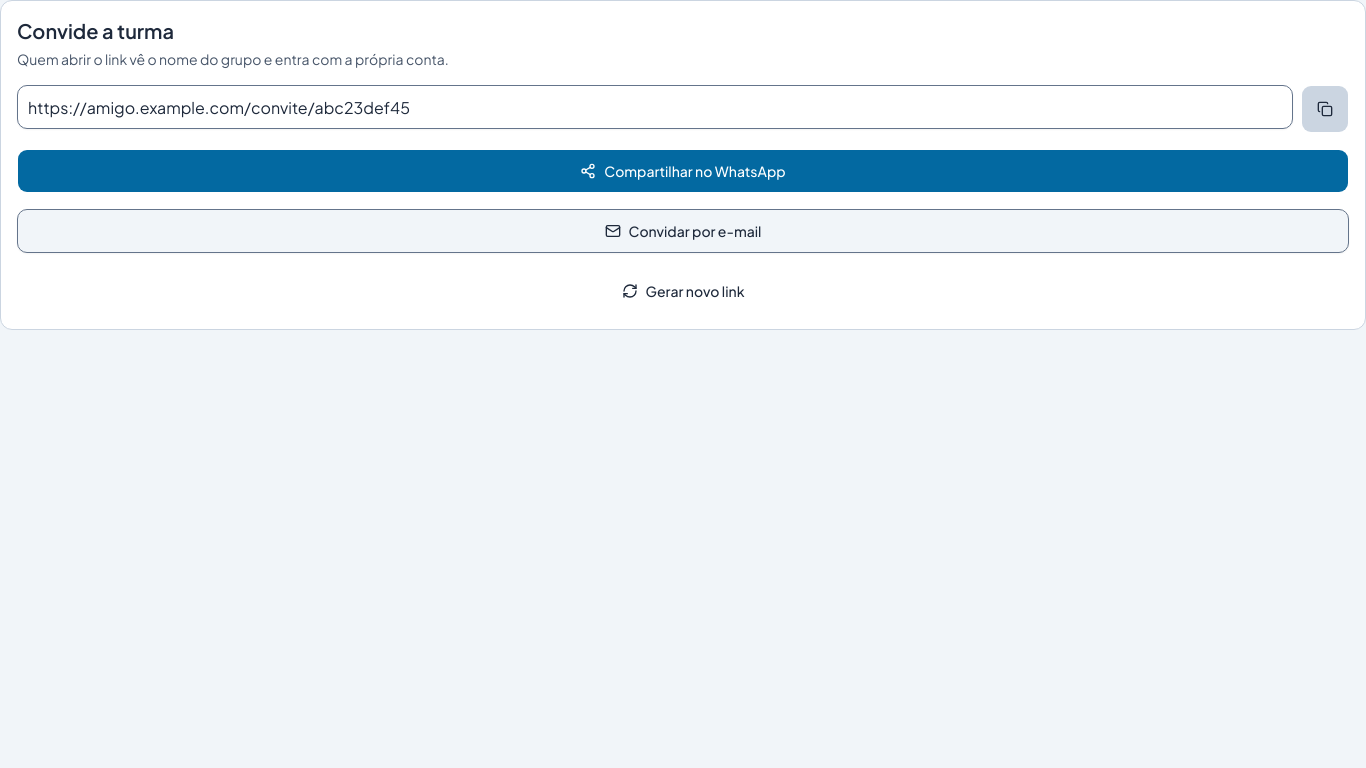
Scenario: InviteBlock › Manter link fecha sem trocar
Click the button "Gerar novo link".
click(683, 291)  # box [17,269,1349,313]
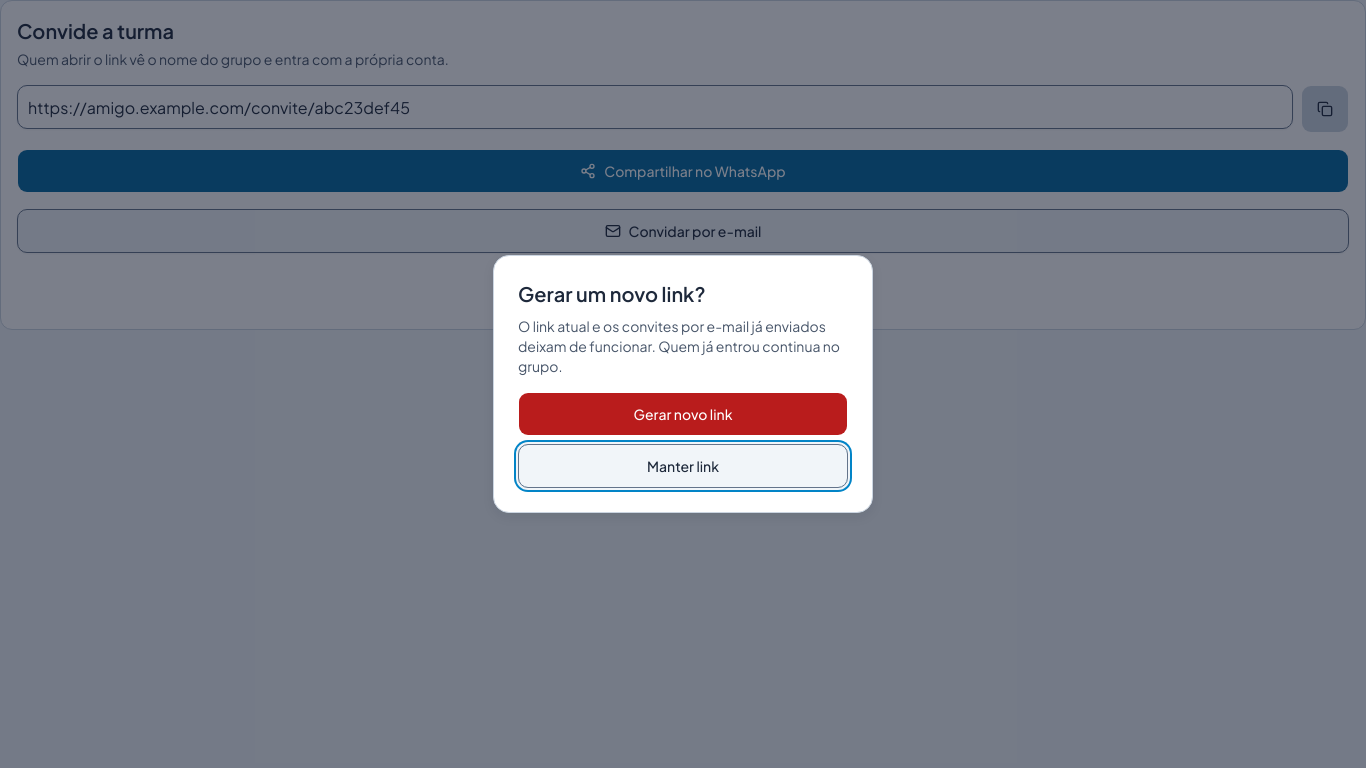
Click the button "Manter link".
click(683, 466)  # box [518,444,848,488]
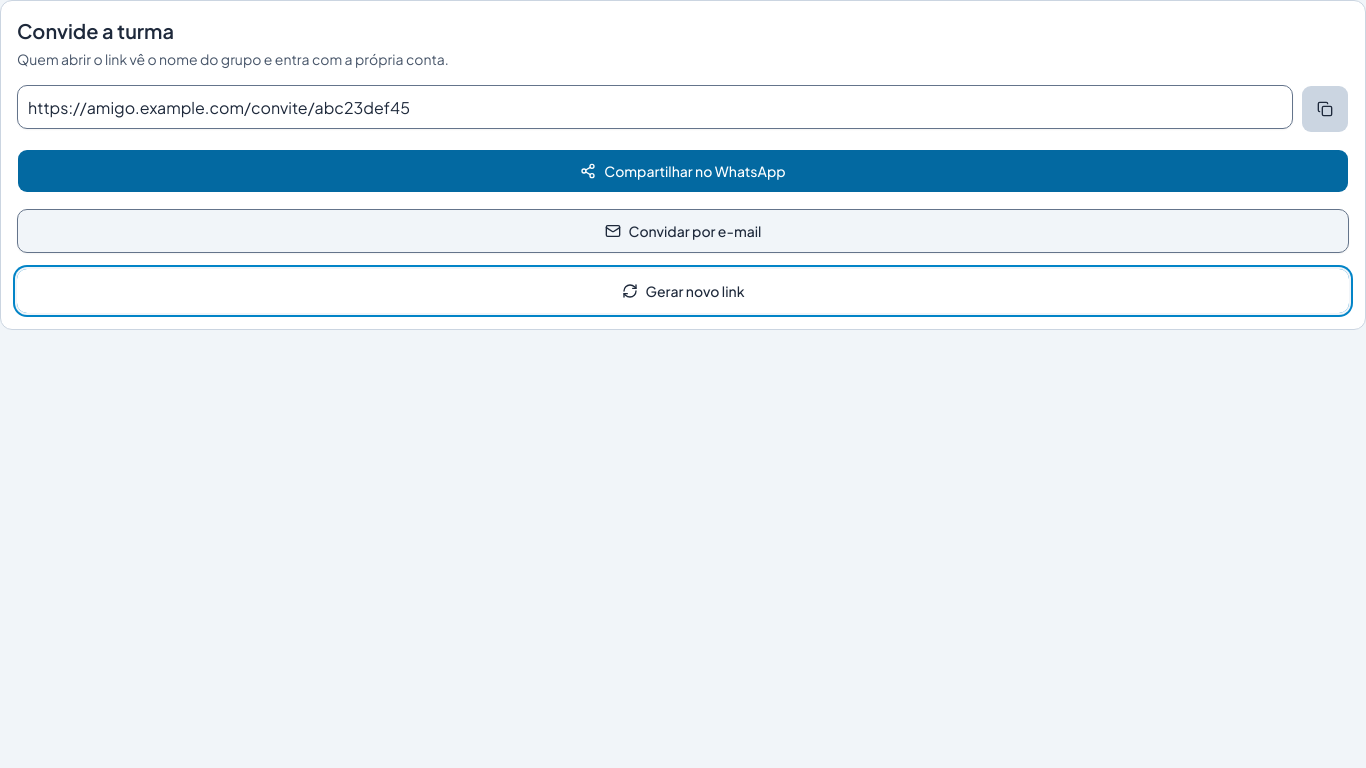
Result: the dialog is gone
